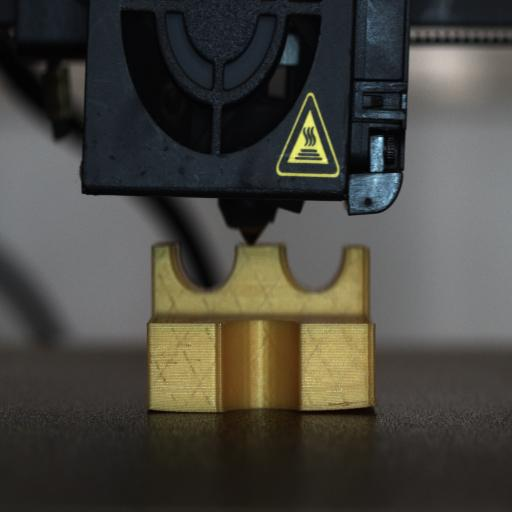warp: (326, 393, 382, 419), (146, 401, 168, 415)
